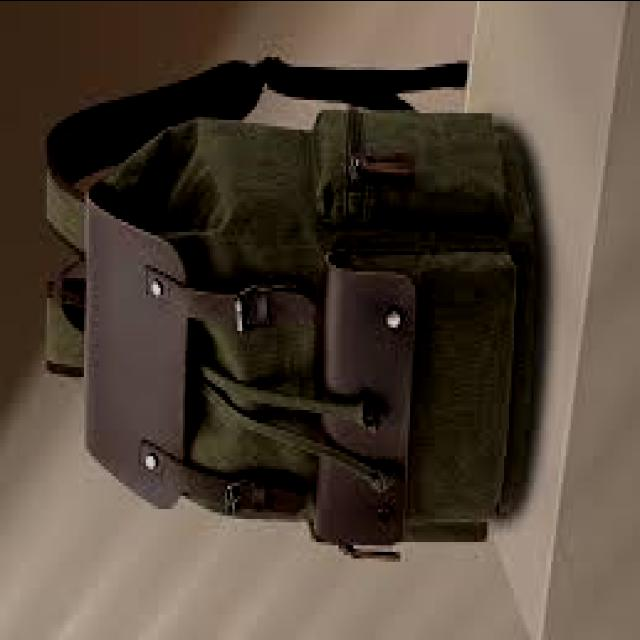backpack: (41, 60, 537, 562)
